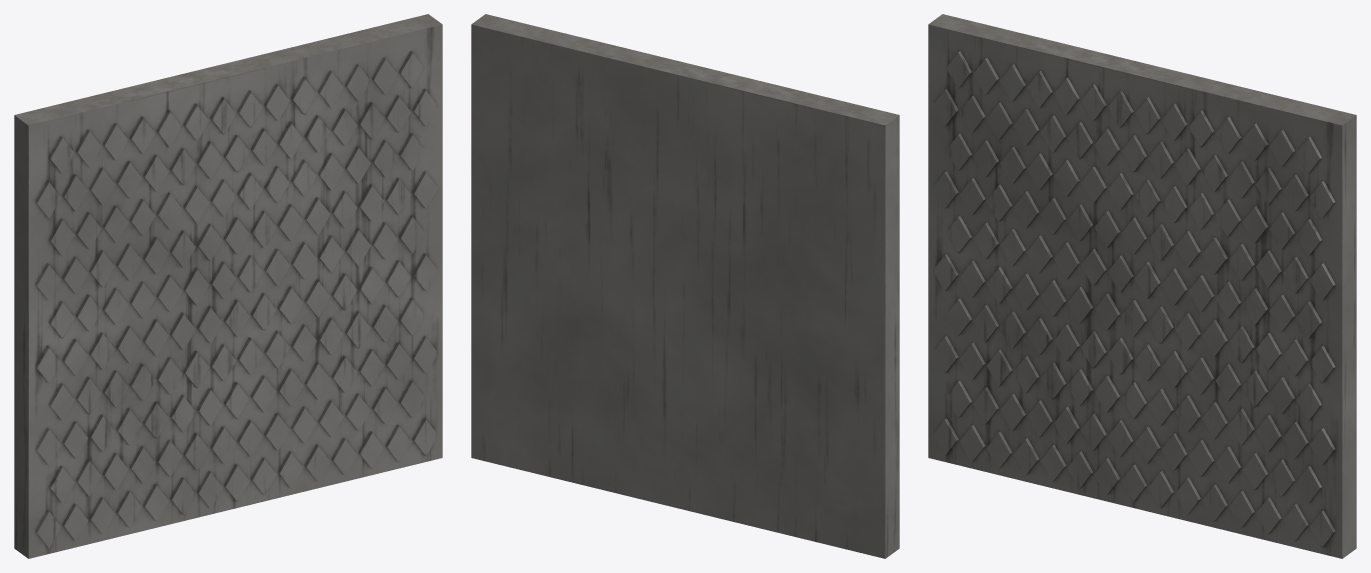
File: SM_ConcreteFence_PO2.fbx
3 views of the same model, side by side, from view 1: azimuth 30°, elevation 25°; view 2: azimuth 150°, elevation 25°; view 3: azimuth 330°, elevation 25° (orthographic).
Parts seen in each view (by area): view 1: SM_ConcreteFence_PO2; view 2: SM_ConcreteFence_PO2; view 3: SM_ConcreteFence_PO2.
Boxes of the visible parts, x1,y1,x2,y2 form: SM_ConcreteFence_PO2: (14,14,442,558); SM_ConcreteFence_PO2: (471,14,899,558); SM_ConcreteFence_PO2: (928,14,1356,558).
Bounding box in the file's own units: 2 × 2 × 0.138.
Materials: 1 (1 with a texture image).
